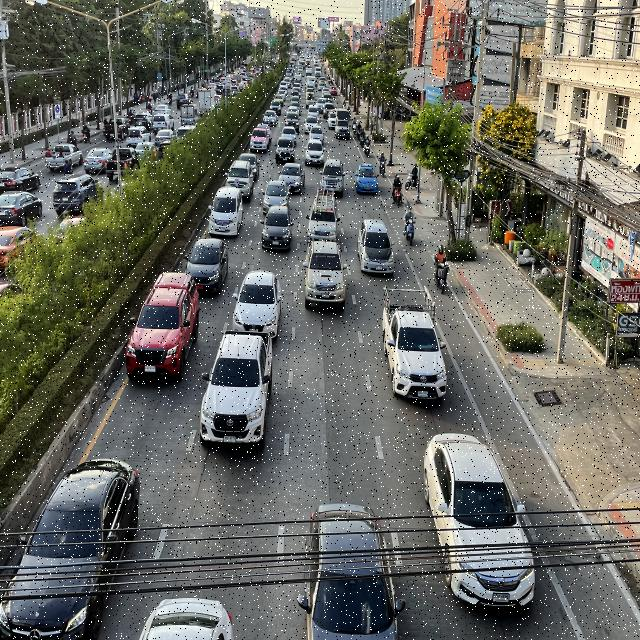bike: (432, 238, 452, 299), (402, 202, 417, 253), (390, 168, 402, 212)
truck: (124, 271, 201, 384), (304, 187, 342, 250)
